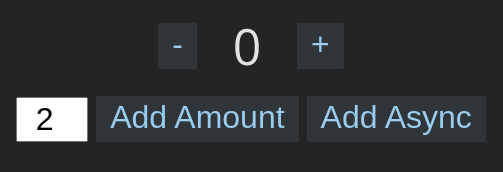
Test case: Increment and decrement value › increase value by 1
Click the button named "Increment value".
click(320, 46)  # box [297,23,344,69]
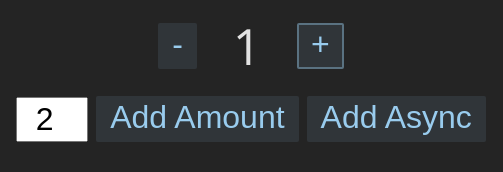
Now the text named "Counter" reads "1", box [233,12,261,80]
